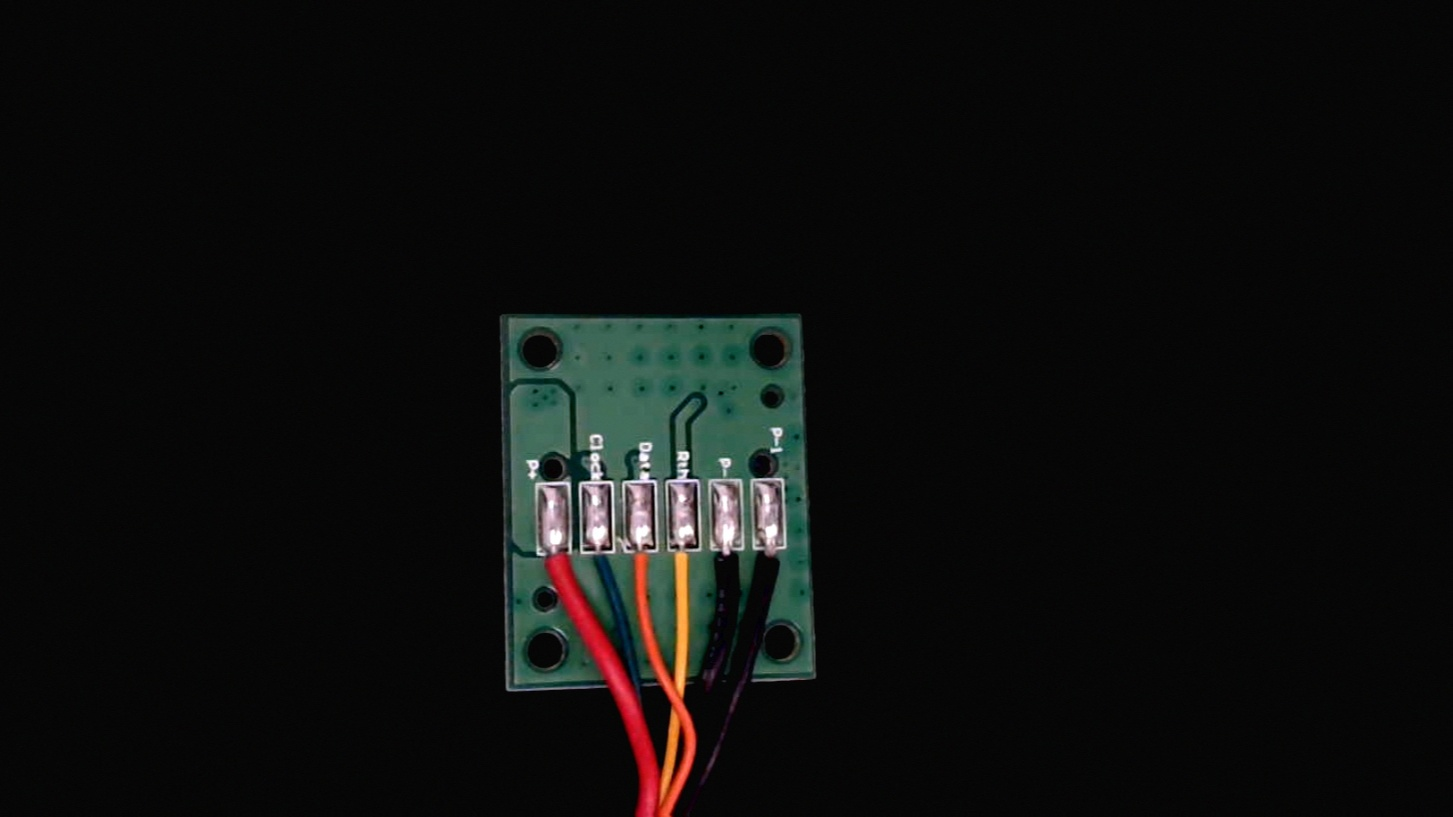Black: (714, 536, 753, 620)
Black1: (760, 536, 798, 614)
Green: (584, 536, 620, 606)
Orange: (628, 536, 665, 620)
Red: (537, 539, 576, 621)
Yellow: (668, 537, 707, 622)
